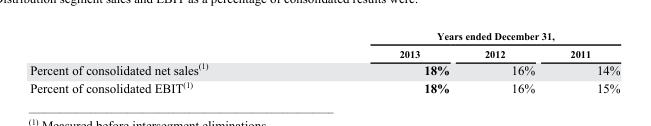table: (29, 29, 619, 95)
table column: (29, 29, 303, 95), (303, 29, 466, 95), (466, 29, 551, 95), (551, 29, 619, 95)
table column header: (29, 29, 619, 59)
table row: (29, 59, 619, 78), (29, 78, 619, 95), (29, 29, 619, 44), (29, 44, 619, 59)
table spanning cell: (303, 29, 619, 44)
